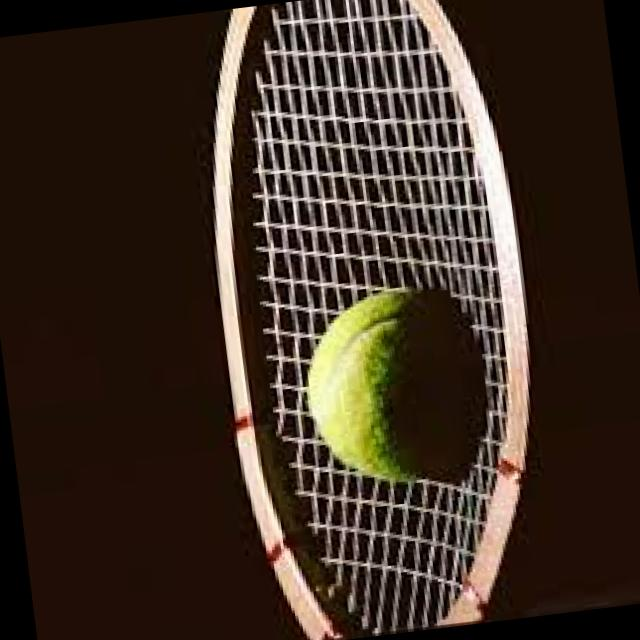Tennis Ball: (298, 278, 492, 498)
